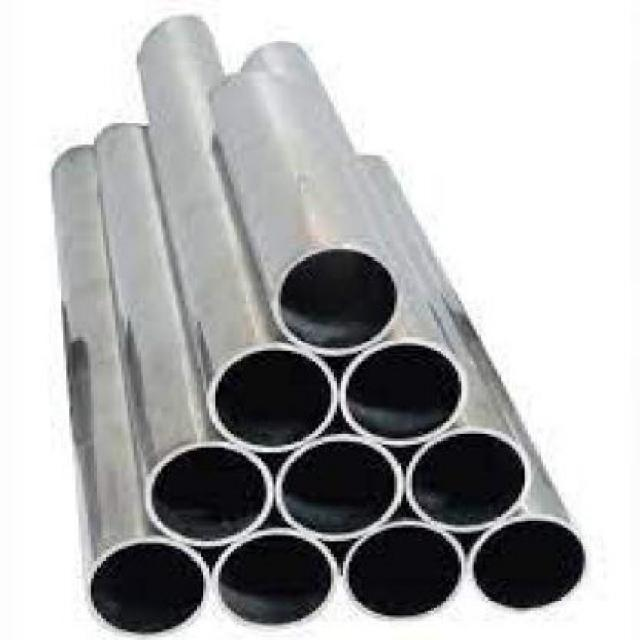pipe: (206, 345, 337, 453), (274, 434, 405, 540), (144, 442, 275, 547), (274, 247, 400, 356), (341, 340, 466, 445), (406, 429, 531, 532), (88, 539, 210, 635), (344, 522, 462, 621), (214, 532, 336, 626), (470, 516, 586, 610)
